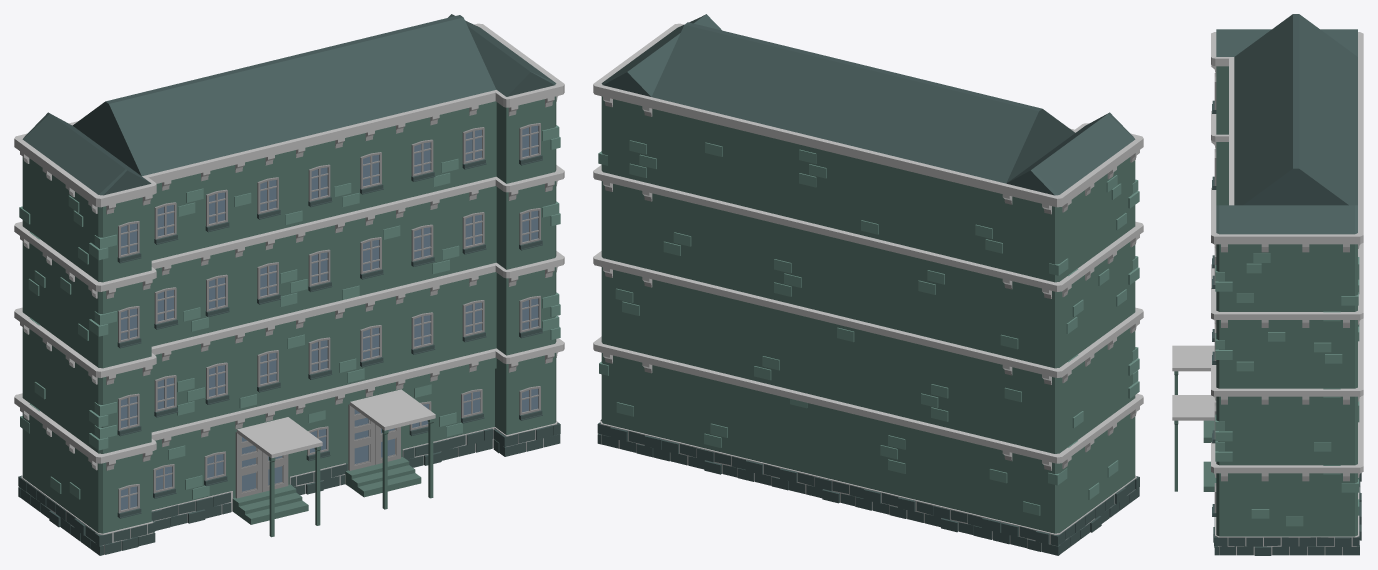
File: 4Story_Wide_2Doors_Roof_Mat.glb
The picture shows the model from 3 angles, left to right: view 1: azimuth 30°, elevation 25°; view 2: azimuth 150°, elevation 25°; view 3: azimuth 270°, elevation 25°; orthographic projection. The views are drawn at different scales.
Parts seen in each view (by area): view 1: 4Story_Wide_2Doors_Roof_Mat; view 2: 4Story_Wide_2Doors_Roof_Mat; view 3: 4Story_Wide_2Doors_Roof_Mat.
Boxes of the visible parts, x1=… form: 4Story_Wide_2Doors_Roof_Mat: x1=14, y1=14, x2=564, y2=555; 4Story_Wide_2Doors_Roof_Mat: x1=593, y1=14, x2=1143, y2=555; 4Story_Wide_2Doors_Roof_Mat: x1=1172, y1=14, x2=1363, y2=555.
Bounding box in the file's own units: 6.83 × 5.68 × 2.7.
